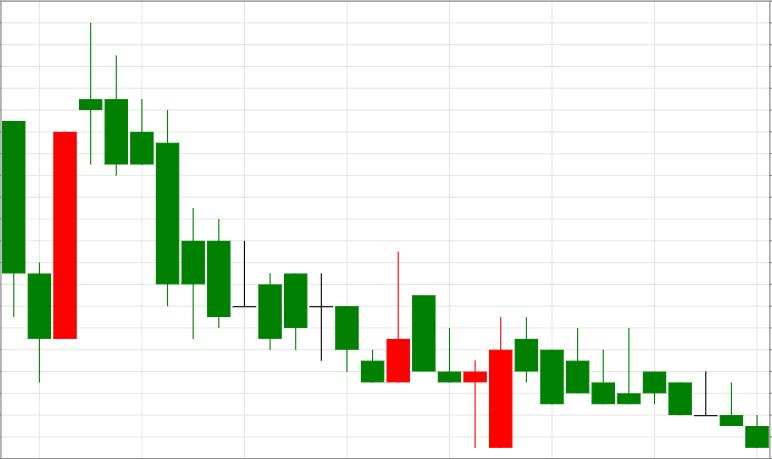bullish_engulfing_rise: (104, 56, 411, 383)
